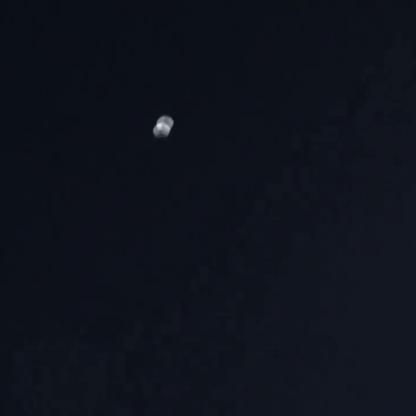ball: (148, 106, 178, 140)
